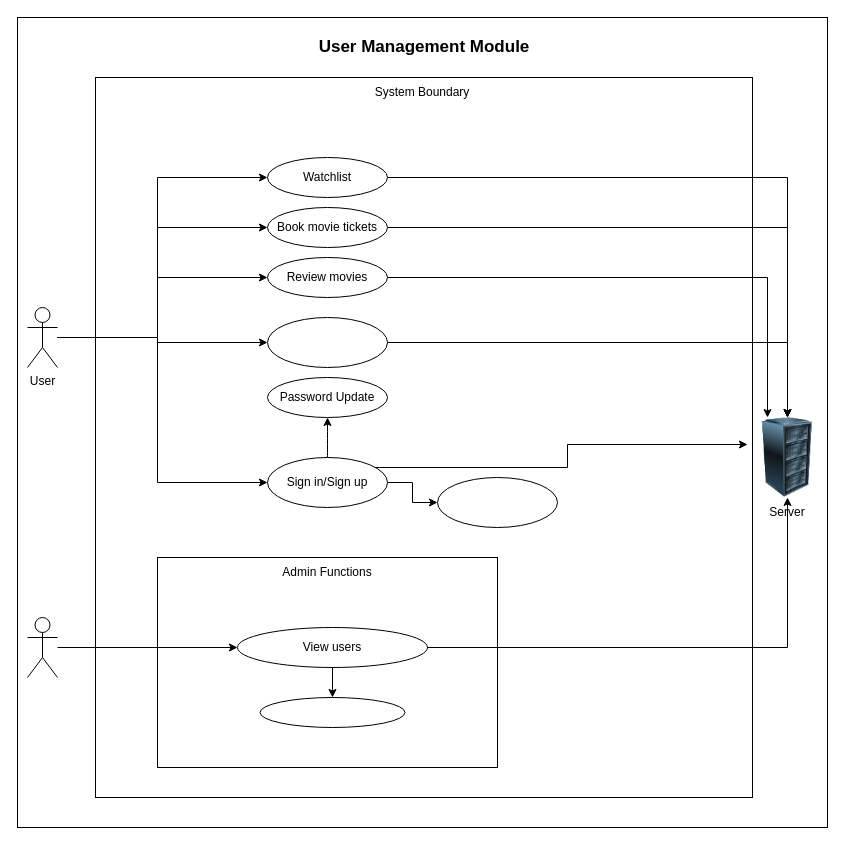
Some shapes in this 845 by 845 pixel diagram are drawn without their labels. Here are the shapes that lost their labels. From the top down, the centre of each, then its label:
the point at 327,342: Delete account
the point at 497,502: Log out
the point at 42,647: Admin
the point at 332,712: Remove users
